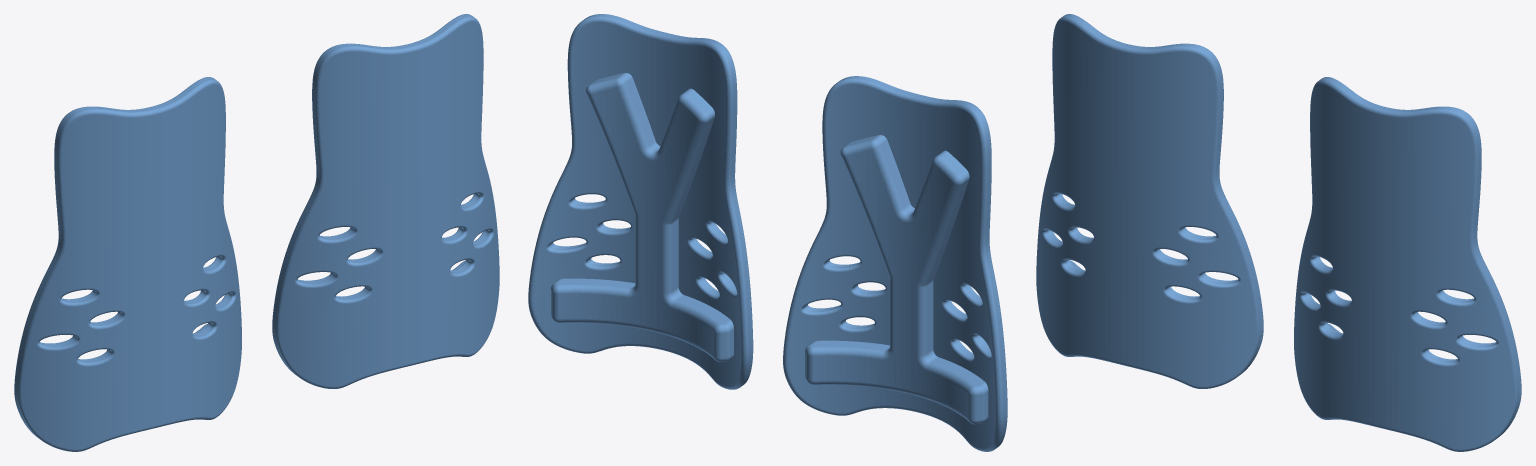
Rendered from shin-guard.glb.
3 views of the same model, side by side, from view 1: azimuth 30°, elevation 25°; view 2: azimuth 150°, elevation 25°; view 3: azimuth 330°, elevation 25° (orthographic).
Visible parts, largest first — view 1: p0; view 2: p0, p1; view 3: p0.
Part boxes in pixels (x1,y1,x2,y2): p0: [14, 14, 499, 451]; p0: [528, 14, 1007, 451]; p1: [551, 73, 988, 424]; p0: [1036, 14, 1521, 451].
Size of the model in its own units: 0.3974 by 0.27 by 0.0468.
